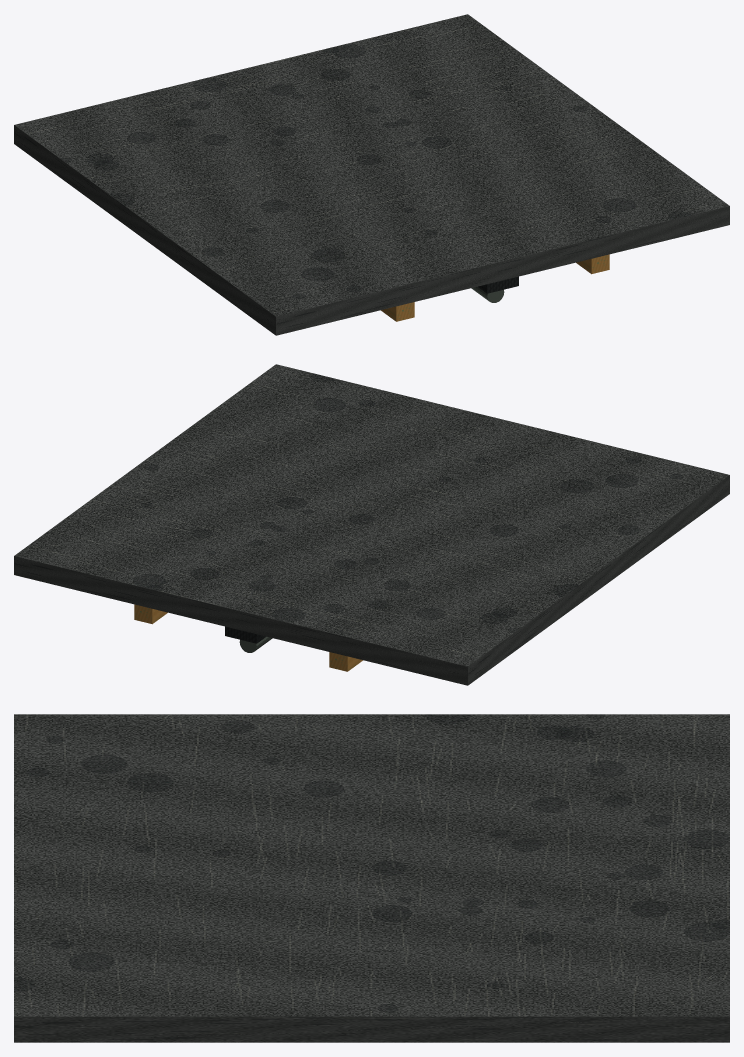
File: SM_CeilingPanel_PipeChannels_4m.obj
3 views of the same model, one above another, from view 1: azimuth 30°, elevation 25°; view 2: azimuth 150°, elevation 25°; view 3: azimuth 270°, elevation 25° (orthographic). The views are drawn at different scales.
Parts seen in each view (by area): view 1: Iron_CeilingSlab, Brass_PipeChannelRails; view 2: Iron_CeilingSlab, Brass_PipeChannelRails; view 3: Iron_CeilingSlab.
Boxes of the visible parts, <box> form: Iron_CeilingSlab: <box>14,14,729,335</box>; Brass_PipeChannelRails: <box>381,254,609,321</box>; Iron_CeilingSlab: <box>14,364,729,685</box>; Brass_PipeChannelRails: <box>134,604,362,671</box>; Iron_CeilingSlab: <box>14,714,729,1042</box>.
Size of the model in its own units: 4 by 0.395 by 4.
4 materials, 4 textured.
